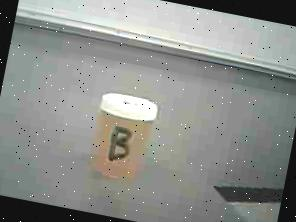Bottle B: (72, 82, 170, 194)
